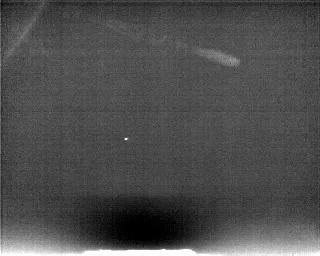BIRD: (122, 134, 131, 144)
